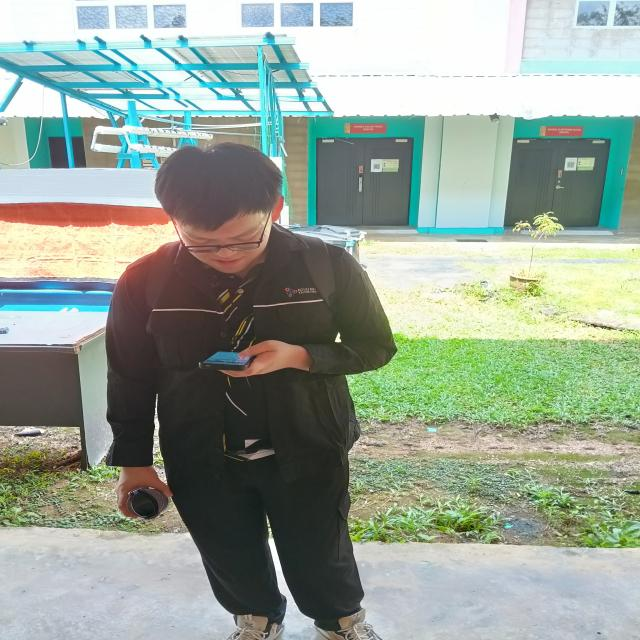person_with_labcoat: (106, 143, 396, 640)
